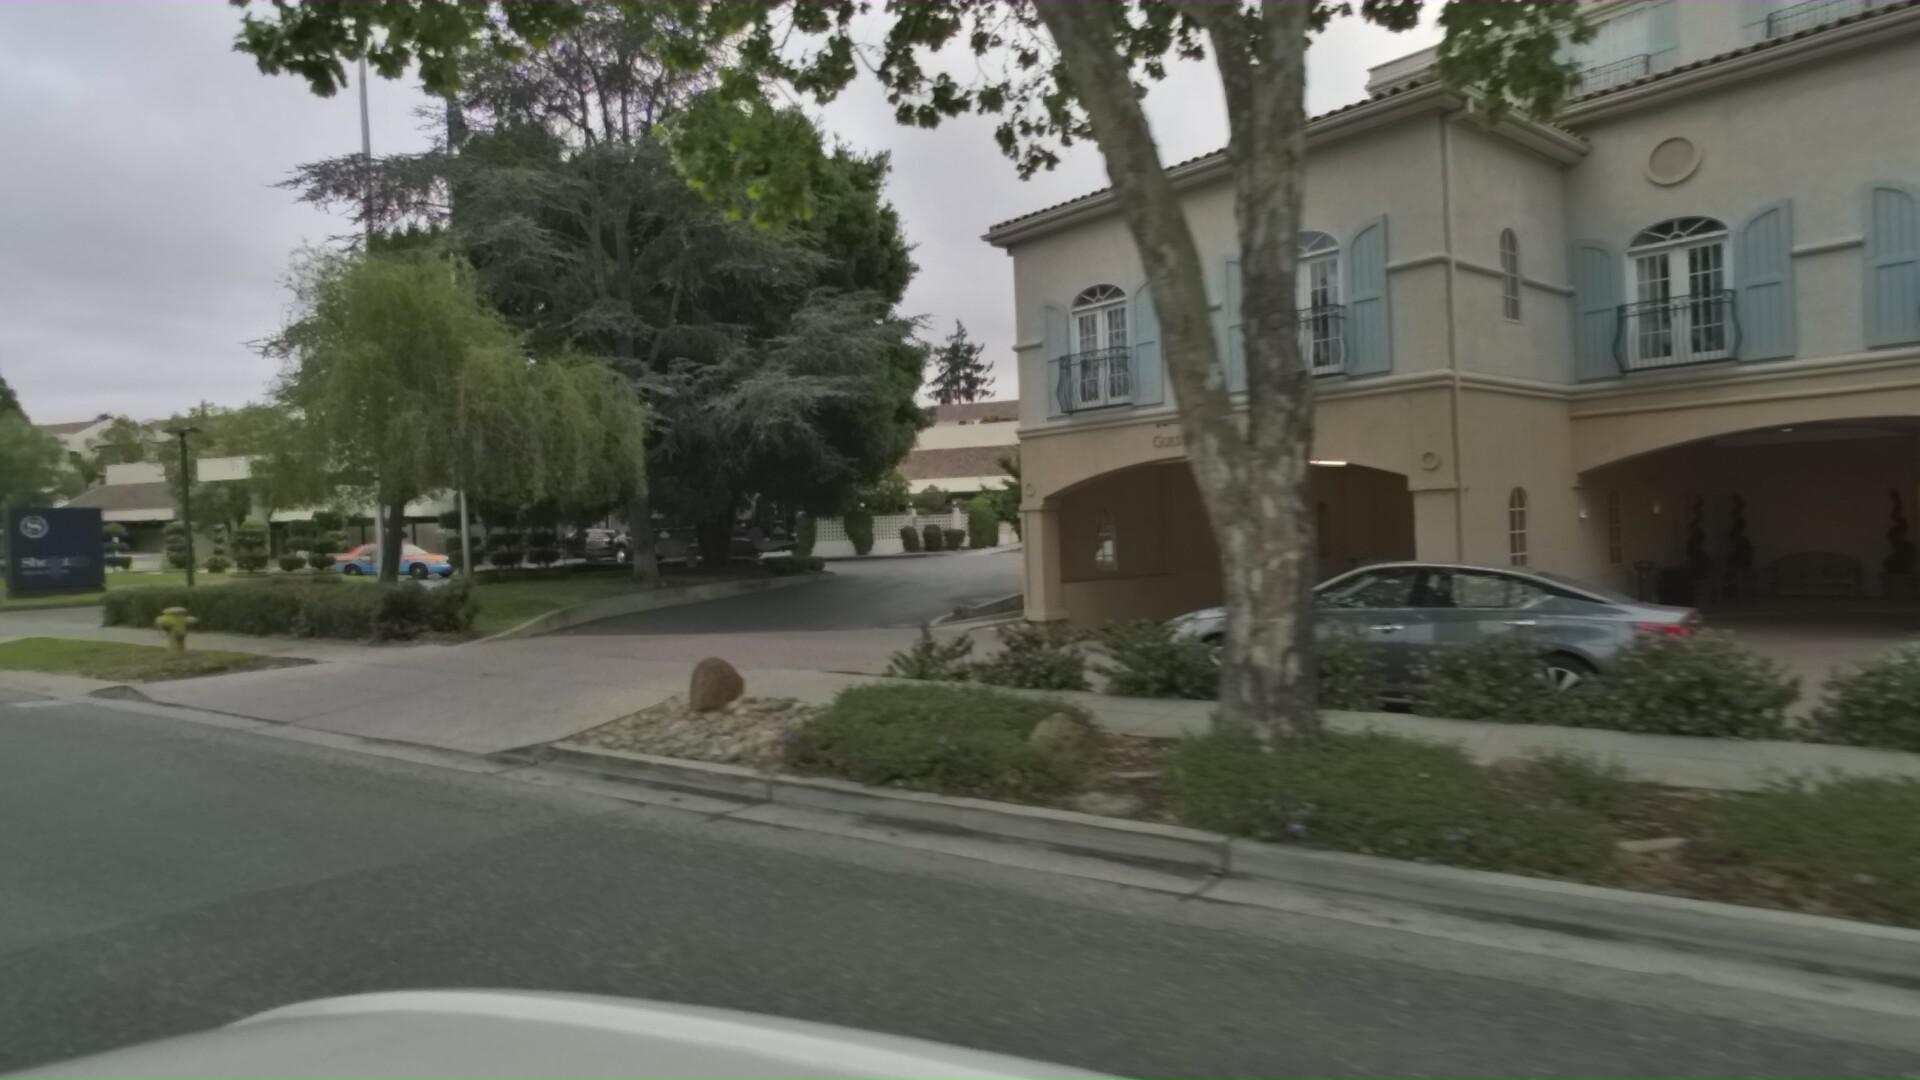bus: (605, 483, 812, 563)
car: (1193, 531, 1800, 709), (320, 534, 483, 582), (585, 524, 629, 560)
